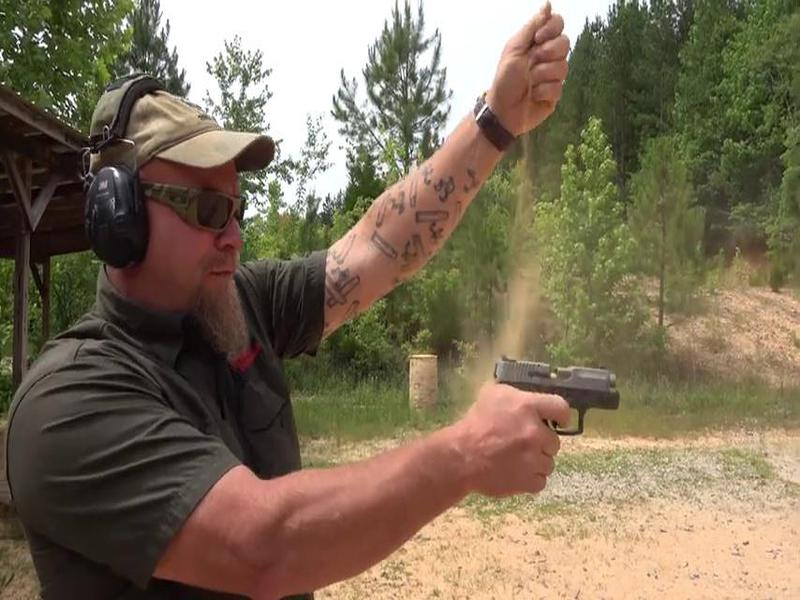Pistola: (487, 348, 634, 440)
